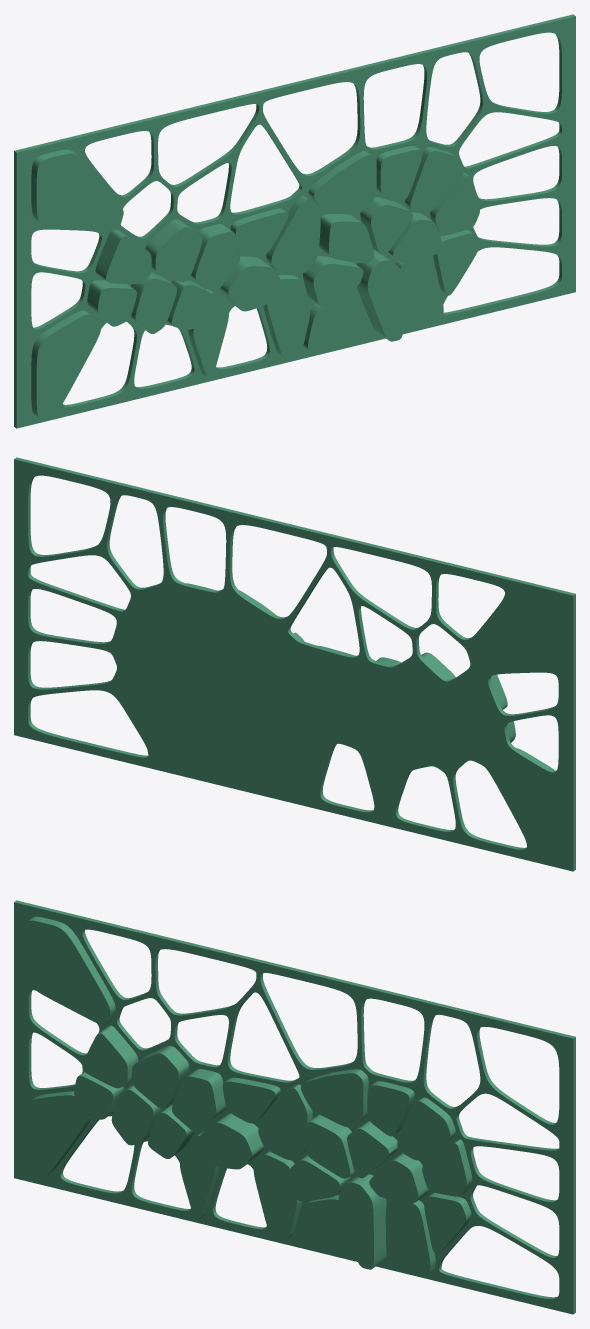
Rendered from trtl_flower.glb.
3 renders of one model, top to bottom at view 1: azimuth 30°, elevation 25°; view 2: azimuth 150°, elevation 25°; view 3: azimuth 330°, elevation 25°, orthographic.
Parts seen in each view (by area): view 1: Trtl_Flower; view 2: Trtl_Flower; view 3: Trtl_Flower.
Boxes of the visible parts, bbox=[...] form: Trtl_Flower: bbox=[14, 14, 575, 428]; Trtl_Flower: bbox=[14, 457, 575, 871]; Trtl_Flower: bbox=[14, 900, 575, 1314].
Size of the model in its own units: 122 by 57.5 by 6.
